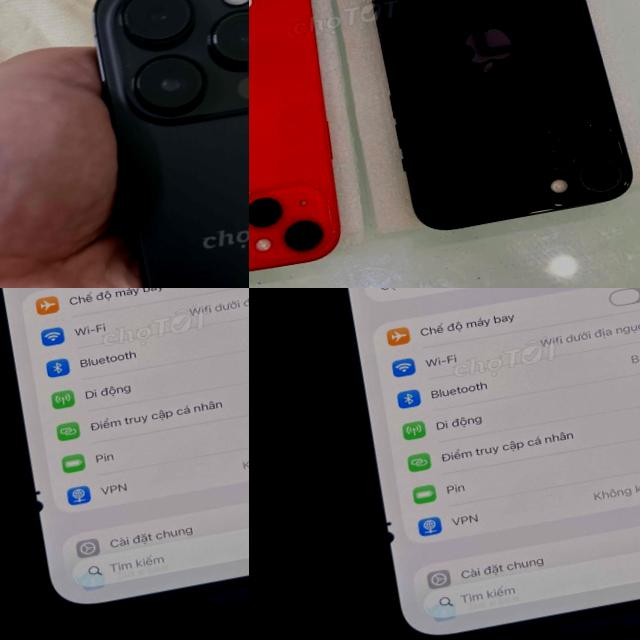gen_12_13: (296, 288, 640, 640), (0, 288, 249, 627)
gen_14: (345, 0, 640, 250), (59, 0, 249, 288), (249, 0, 368, 288)
screen_defect: (17, 451, 92, 558), (368, 482, 443, 589)
